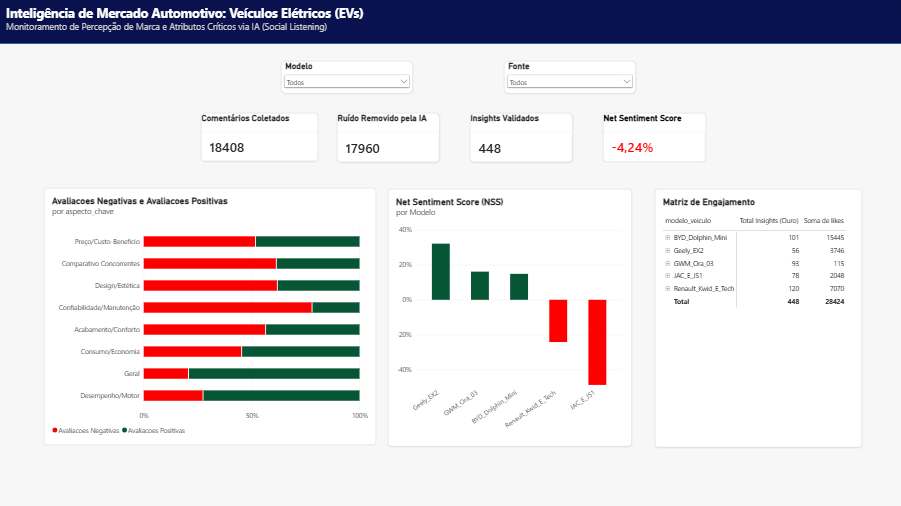

Layout of this report page (visuals, bound fields, positions):
{"tool":"powerbi","page":{"name":"Página 1","canvas":[1920,1080],"ordinal":0},"visuals":[{"type":"shape","box":[0,0,1920,95],"z":0},{"type":"slicer","fields":{"Values":["dModelo.Modelo"]},"box":[25,111,280,68.6],"z":1000},{"type":"slicer","fields":{"Values":["dFonte.Fonte"]},"box":[376,111,280,68.6],"z":2000},{"type":"cardVisual","title":"Comentários Coletados","fields":{"Data":["_Medidas.Total Volume Bruto"]},"box":[48.9,282.8,249.4,103.3],"z":2001},{"type":"cardVisual","title":"Ruído Removido pela IA","fields":{"Data":["_Medidas.Ruido Descartado"]},"box":[355,282.8,217.5,105],"z":2002},{"type":"cardVisual","title":"Insights Validados","fields":{"Data":["_Medidas.Total Insights (Ouro)"]},"box":[633.5,282.8,217.5,105],"z":2003},{"type":"cardVisual","title":"Net Sentiment Score","fields":{"Data":["_Medidas.Net Sentiment Score (NSS)"]},"box":[916.3,282.8,219,104.2],"z":2004},{"type":"donutChart","fields":{"Y":["_Medidas.Ruido Descartado","_Medidas.Total Insights (Ouro)"]},"box":[48.9,433.7,496.4,340.2],"z":2005},{"type":"hundredPercentStackedBarChart","fields":{"Category":["fAvaliacoes.aspecto_chave"],"Y":["_Medidas.Avaliacoes Negativas","_Medidas.Avaliacoes Positivas"]},"box":[608,433.7,705.5,370.4],"z":2006},{"type":"pivotTable","fields":{"Rows":["fAvaliacoes.modelo_veiculo","fAvaliacoes.aspecto_chave","fAvaliacoes.resumo_insight"],"Values":["Sum(fAvaliacoes.likes)"]},"box":[95.7,803.6,297.6,233.9],"z":2008},{"type":"clusteredColumnChart","fields":{"Category":["dModelo.Modelo"],"Y":["_Medidas.Net Sentiment Score (NSS)"]},"box":[1362.8,433.7,518.7,646.3],"z":2009}]}

Visuals, with their boxes in screenshot pixels (x1, y1, x2, y2), scaled from the page's 1920x1080 canvas onto the 901x506 screenshot:
shape: [x1=0, y1=0, x2=900, y2=45]
slicer - dModelo.Modelo: [x1=12, y1=52, x2=143, y2=84]
slicer - dFonte.Fonte: [x1=176, y1=52, x2=308, y2=84]
"Comentários Coletados" cardVisual: [x1=23, y1=132, x2=140, y2=181]
"Ruído Removido pela IA" cardVisual: [x1=167, y1=132, x2=269, y2=182]
"Insights Validados" cardVisual: [x1=297, y1=132, x2=399, y2=182]
"Net Sentiment Score" cardVisual: [x1=430, y1=132, x2=533, y2=181]
donutChart - _Medidas.Ruido Descartado x _Medidas.Total Insights (Ouro): [x1=23, y1=203, x2=256, y2=363]
hundredPercentStackedBarChart - fAvaliacoes.aspecto_chave x _Medidas.Avaliacoes Negativas: [x1=285, y1=203, x2=616, y2=377]
pivotTable - fAvaliacoes.modelo_veiculo x fAvaliacoes.aspecto_chave: [x1=45, y1=377, x2=185, y2=486]
clusteredColumnChart - dModelo.Modelo x _Medidas.Net Sentiment Score (NSS): [x1=640, y1=203, x2=883, y2=505]
